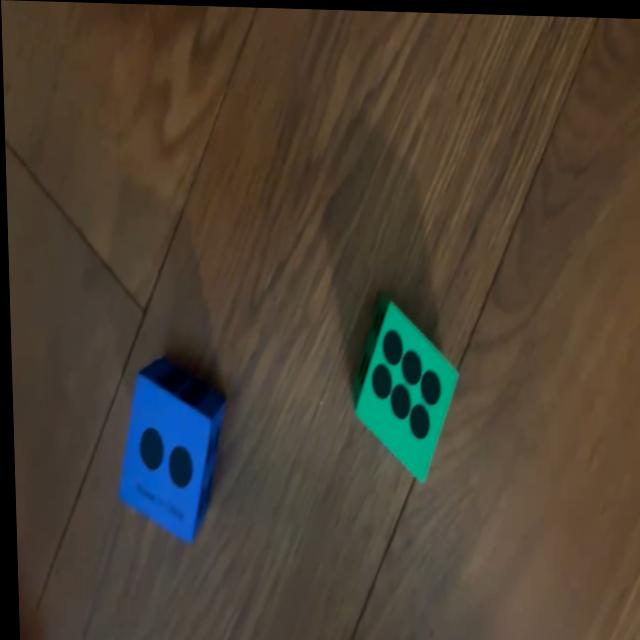cube: (111, 350, 226, 545), (349, 299, 458, 479)
